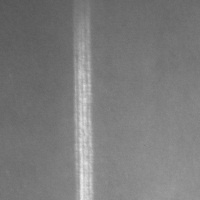scratches: (71, 10, 96, 200)
